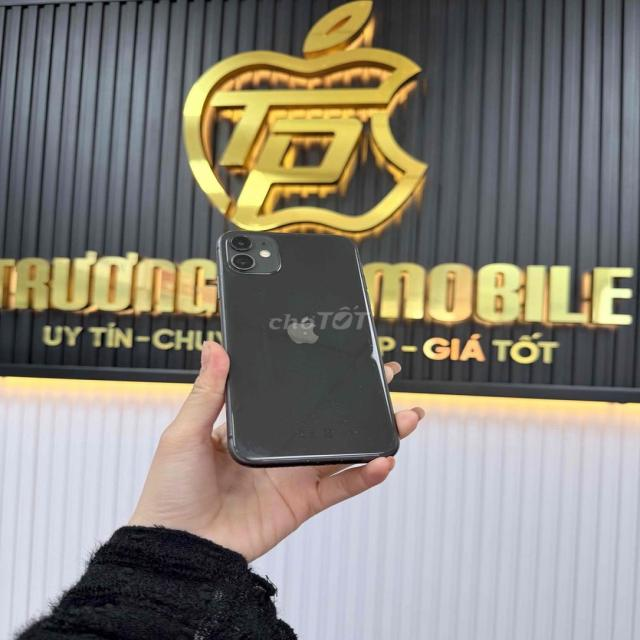scratch: (233, 383, 387, 463), (354, 328, 382, 370), (226, 233, 254, 270)
